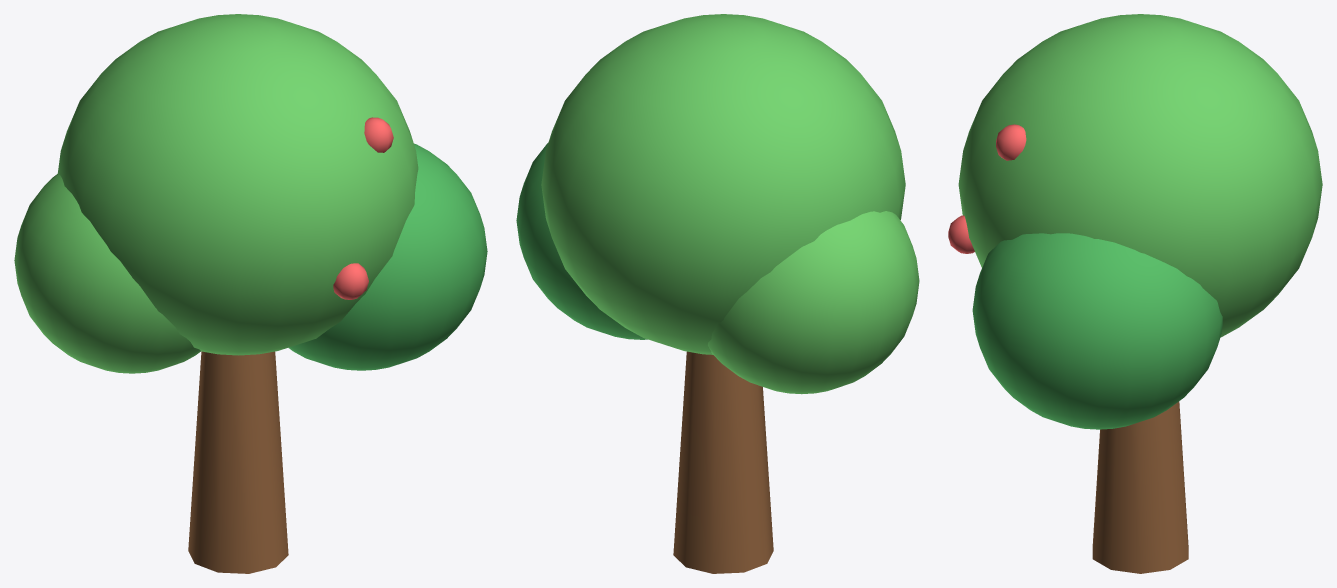
The model's file is Tree_Round.obj.
3 renders of one model, left to right at view 1: azimuth 30°, elevation 25°; view 2: azimuth 150°, elevation 25°; view 3: azimuth 270°, elevation 25°, orthographic.
Parts seen in each view (by area): view 1: Tree_Round; view 2: Tree_Round; view 3: Tree_Round.
Part boxes in pixels (x1,y1,x2,y2): Tree_Round: [14, 14, 487, 573]; Tree_Round: [516, 14, 919, 573]; Tree_Round: [948, 14, 1322, 573].
Size of the model in its own units: 1.67 by 2.05 by 1.34.
Materials: 1 (1 with a texture image).
